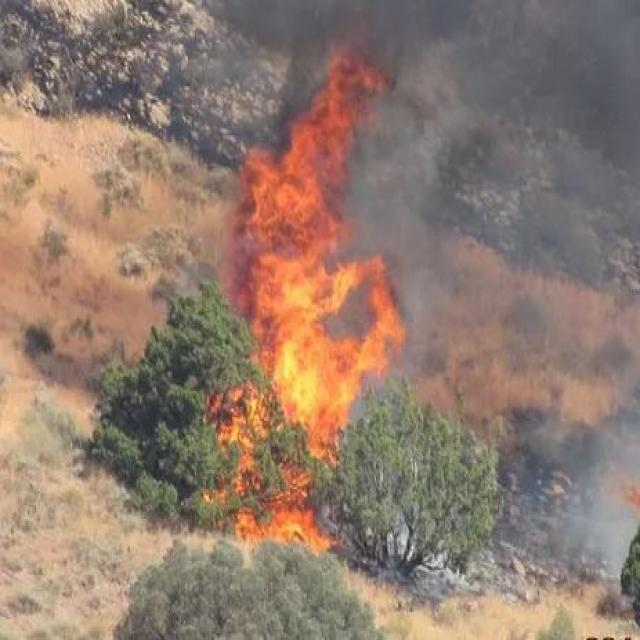Fire: (218, 83, 374, 536)
Smoke: (287, 18, 630, 451)
